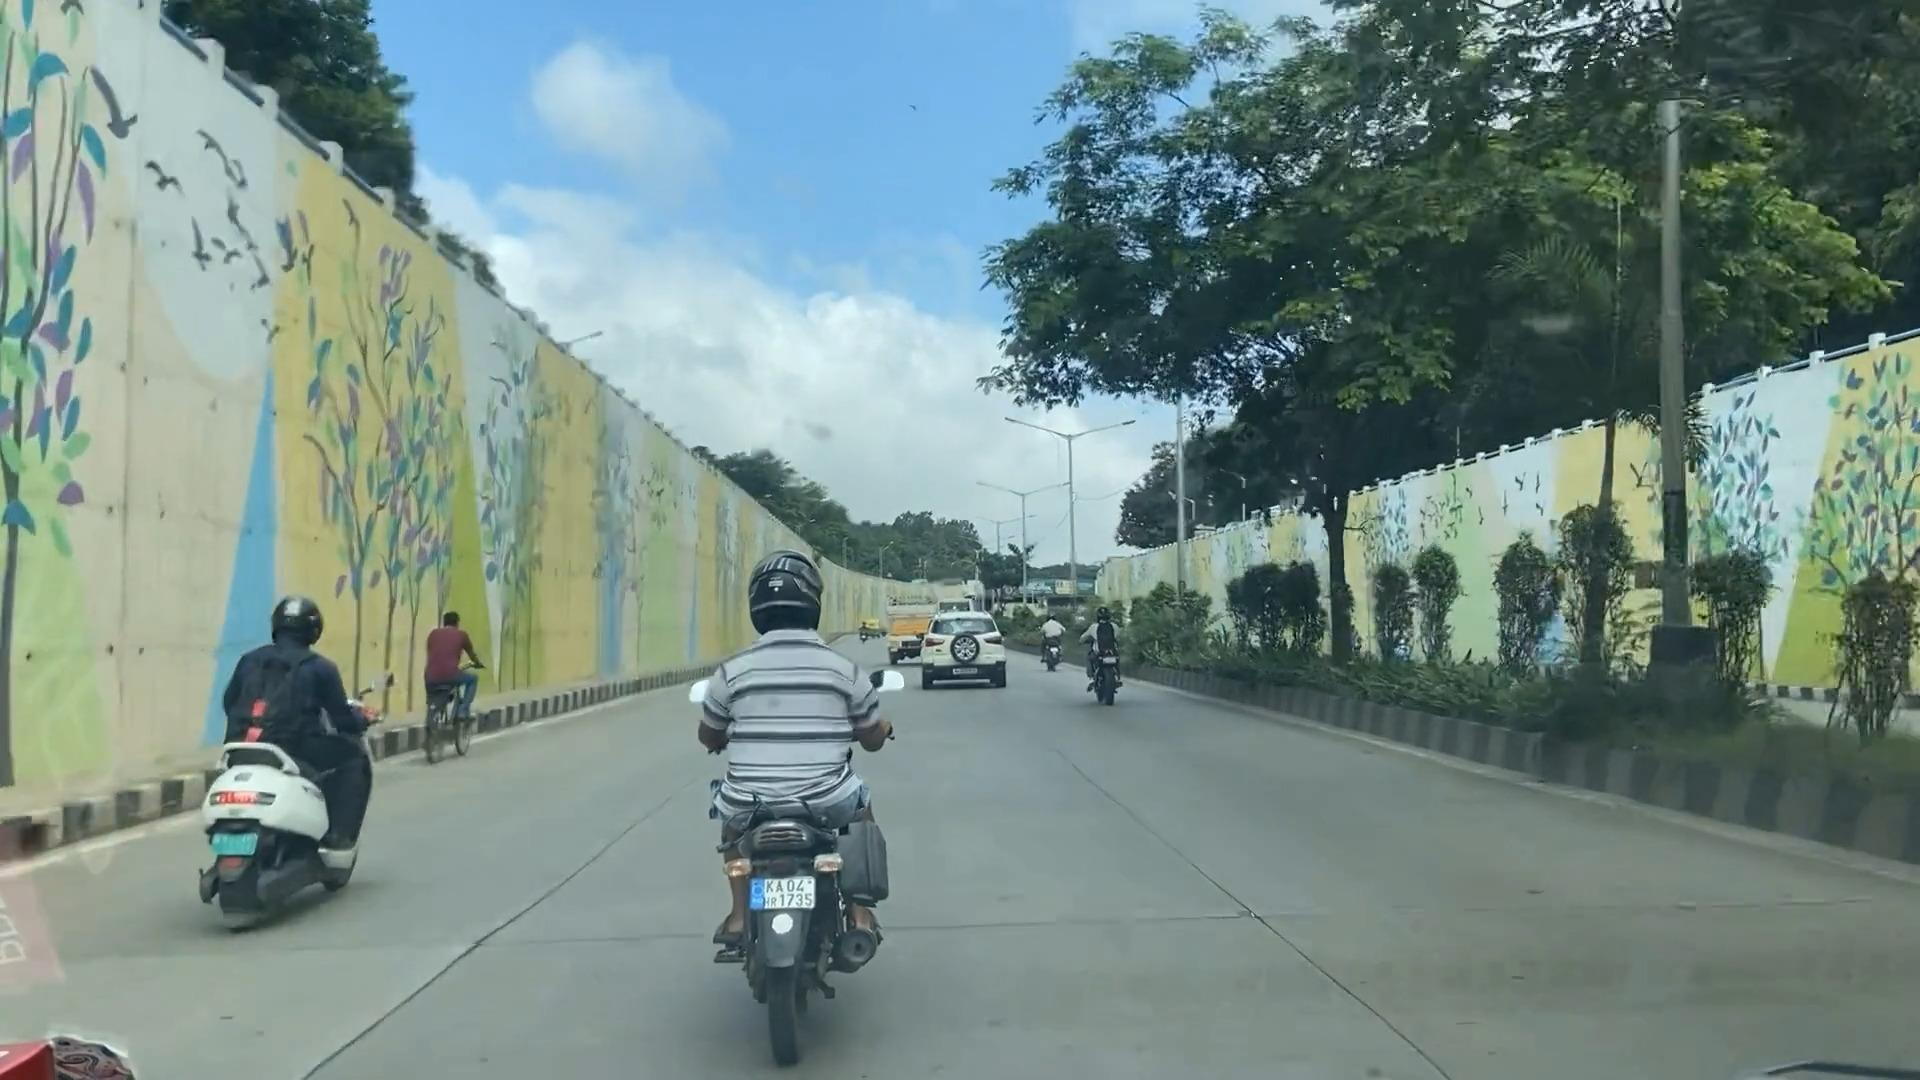LMV: (694, 541, 878, 1033), (208, 603, 365, 930), (920, 612, 1009, 691), (1083, 612, 1129, 709)
